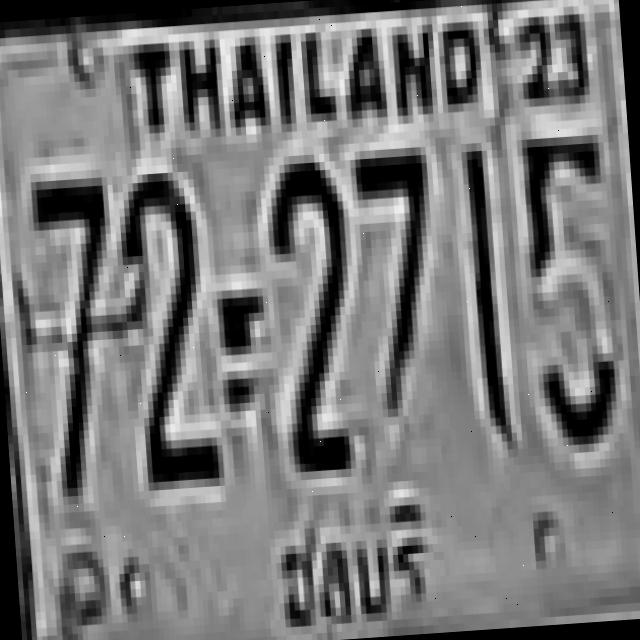1: (460, 142, 506, 434)
2: (114, 167, 216, 488), (265, 148, 358, 468), (114, 167, 210, 463), (263, 152, 354, 440)
5: (516, 125, 624, 438)
7: (24, 168, 122, 490), (348, 143, 438, 406)
Chonburi: (262, 484, 442, 640)
